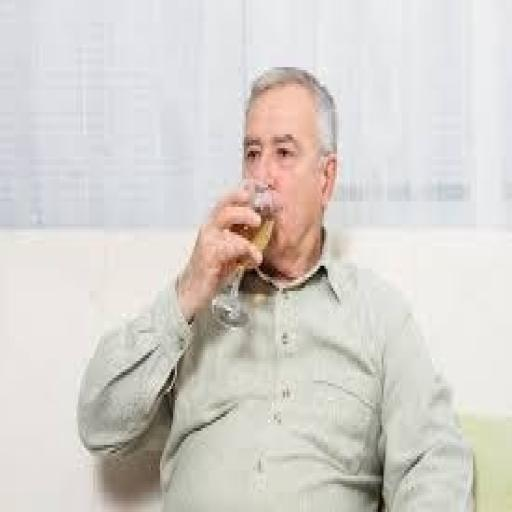drinking: (210, 176, 276, 328)
